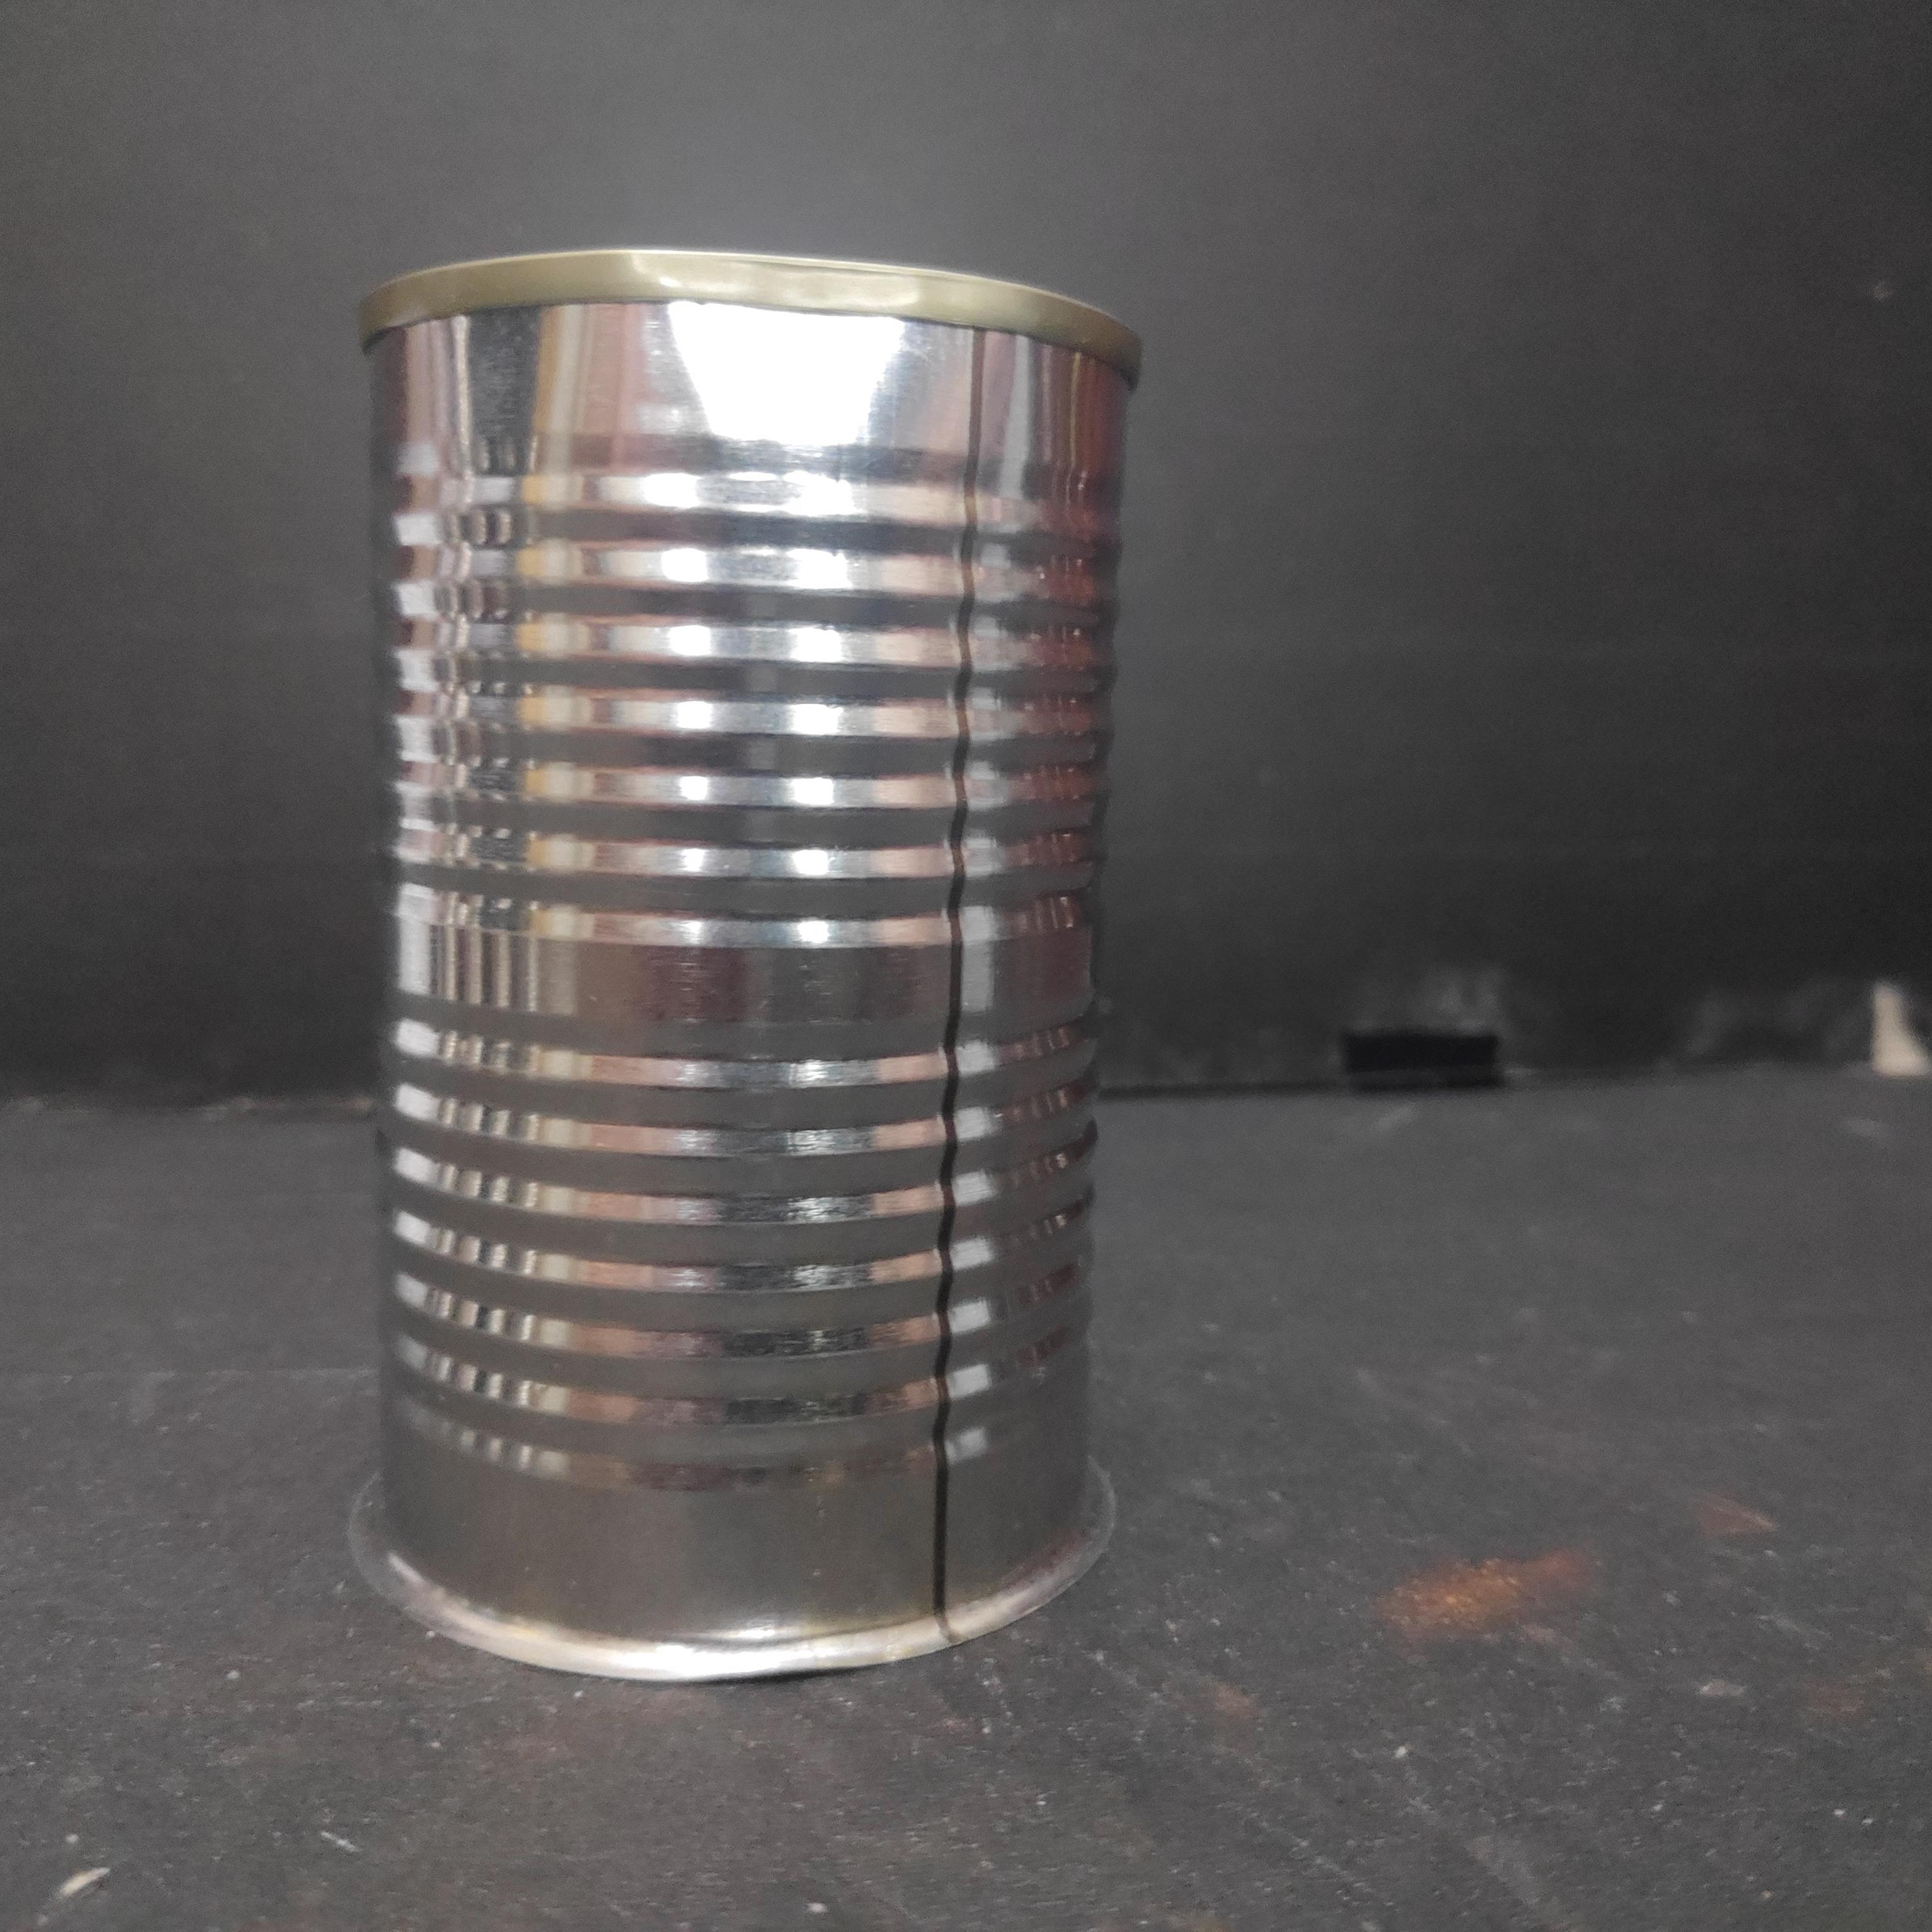Minor Defect: (337, 237, 1159, 1695)
